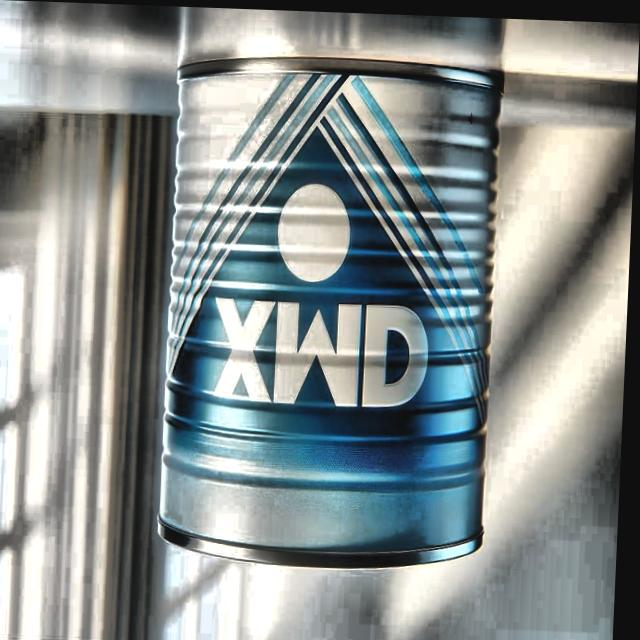can: (149, 40, 520, 582)
